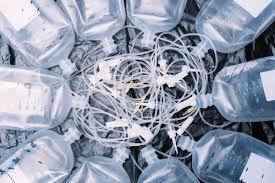Iv_Bottle: (0, 0, 76, 75), (0, 66, 85, 129), (177, 129, 274, 182), (197, 57, 274, 121), (0, 128, 80, 182), (195, 0, 274, 52), (58, 0, 125, 53), (126, 0, 187, 49), (138, 145, 198, 182), (67, 147, 130, 182)
